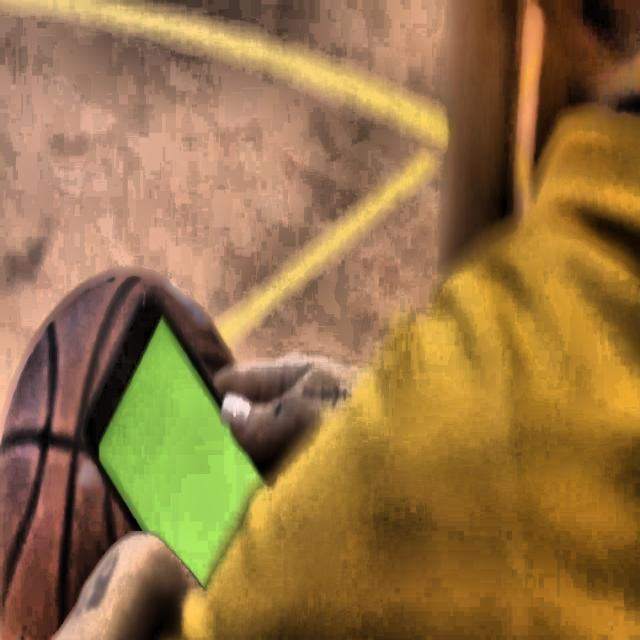Phone: (76, 287, 274, 591)
